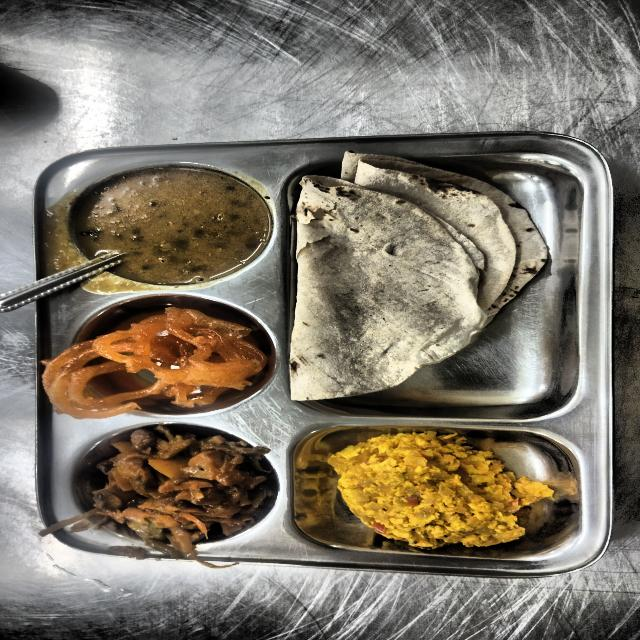Red--chutney: (300, 160, 530, 394)
